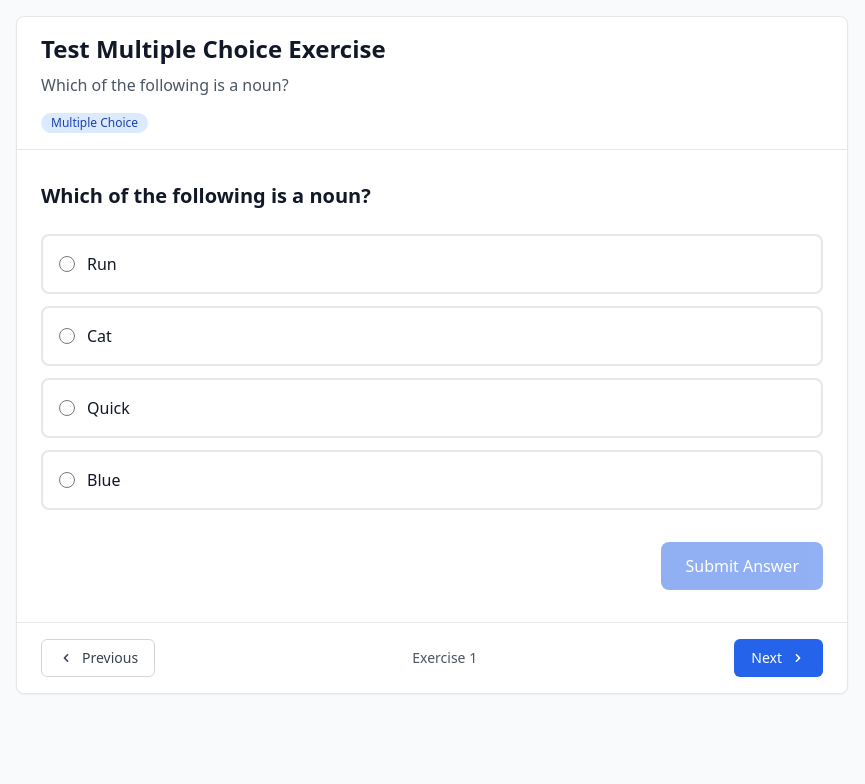
ExercisePage › submits exercise answer successfully
Expected: the heading "Test Multiple Choice Exercise" is shown, [41,33,386,65]
// Select an option
Click the radio button labelled "Cat" at (67,336), box [59,328,75,344]
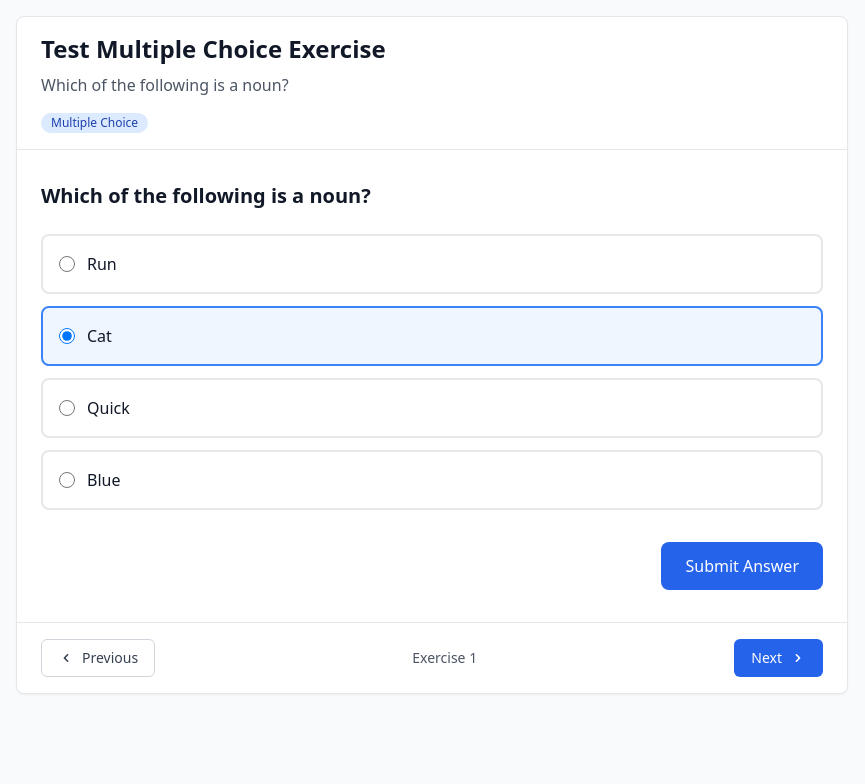
// Submit the answer
Click the button "Submit Answer" at (742,566), box [662,542,823,590]
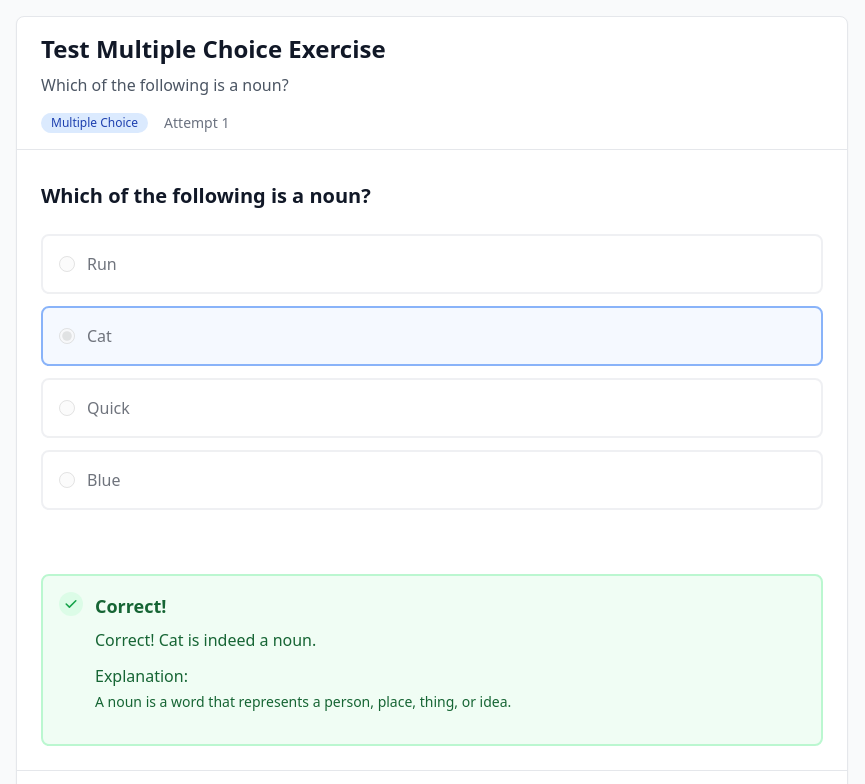
Expected: the heading "Correct!" is shown, [95,594,166,618]
Expected: the text "Correct! Cat is indeed a noun." is shown, [95,629,316,651]
